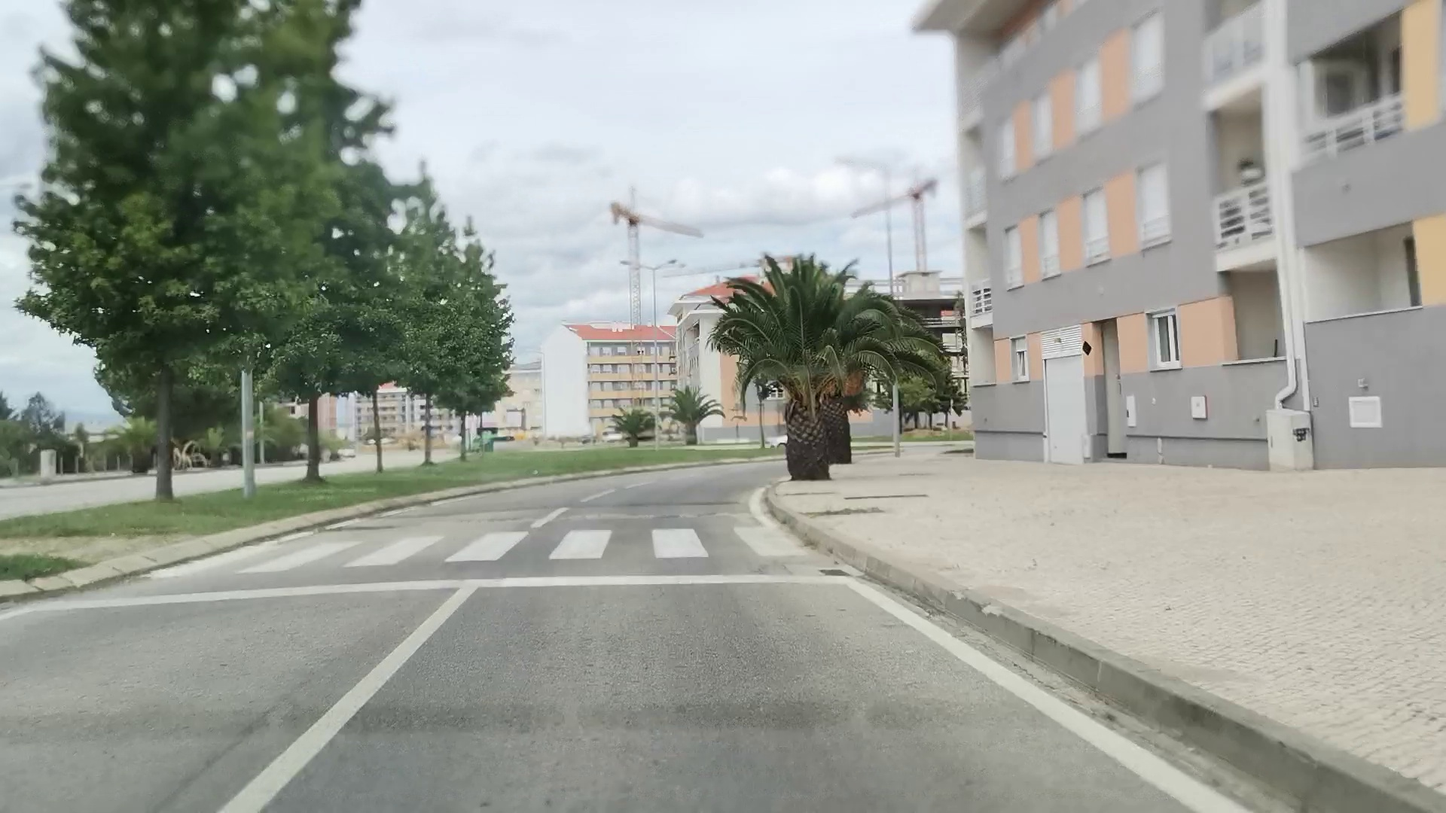Stairs: (143, 521, 807, 573)
